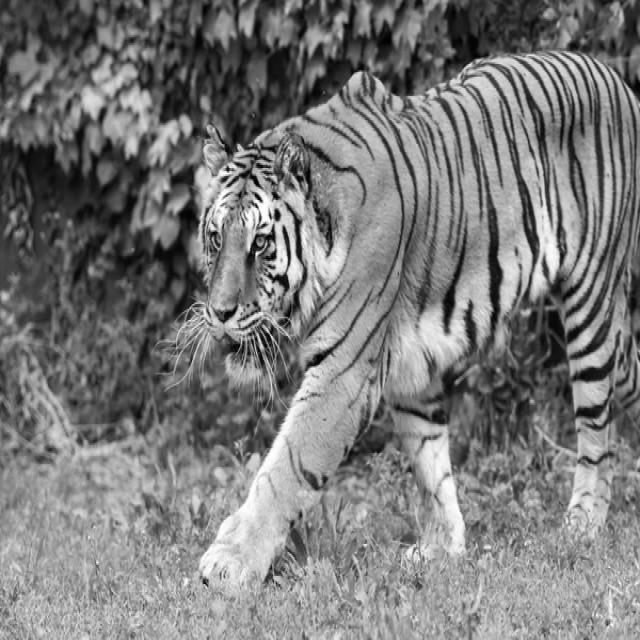Animal: (199, 51, 640, 585)
